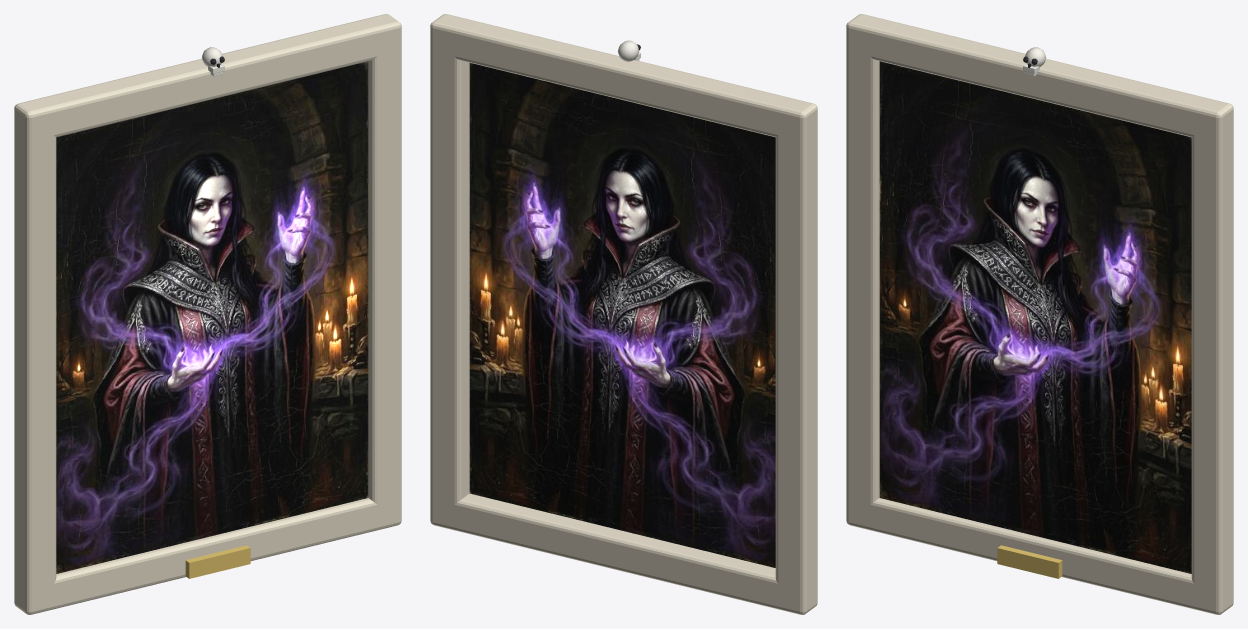
The model's file is art_sorceress_noir.glb.
3 renders of one model, left to right at view 1: azimuth 30°, elevation 25°; view 2: azimuth 150°, elevation 25°; view 3: azimuth 330°, elevation 25°, orthographic.
Visible parts, largest first — view 1: GD_art_sorceress_noir__m0, GD_art_sorceress_noir__m1, GD_art_sorceress_noir__m3; view 2: GD_art_sorceress_noir__m0, GD_art_sorceress_noir__m1; view 3: GD_art_sorceress_noir__m0, GD_art_sorceress_noir__m1, GD_art_sorceress_noir__m3.
Boxes of the visible parts, x1=… form: GD_art_sorceress_noir__m0: x1=56, y1=61, x2=368, y2=573; GD_art_sorceress_noir__m1: x1=14, y1=14, x2=401, y2=614; GD_art_sorceress_noir__m3: x1=185, y1=545, x2=250, y2=578; GD_art_sorceress_noir__m0: x1=469, y1=63, x2=775, y2=567; GD_art_sorceress_noir__m1: x1=430, y1=14, x2=817, y2=614; GD_art_sorceress_noir__m0: x1=879, y1=61, x2=1191, y2=573; GD_art_sorceress_noir__m1: x1=846, y1=14, x2=1233, y2=614; GD_art_sorceress_noir__m3: x1=997, y1=545, x2=1062, y2=578.
Bounding box in the file's own units: 0.86 × 1.14 × 0.0775.
5 materials, 1 textured.
